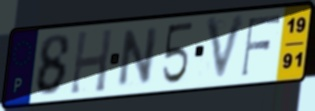5: (161, 20, 196, 86)
8: (35, 33, 72, 98)
F: (239, 13, 283, 79)
H: (68, 27, 115, 96)
N: (115, 25, 161, 90)
V: (204, 12, 249, 85)
